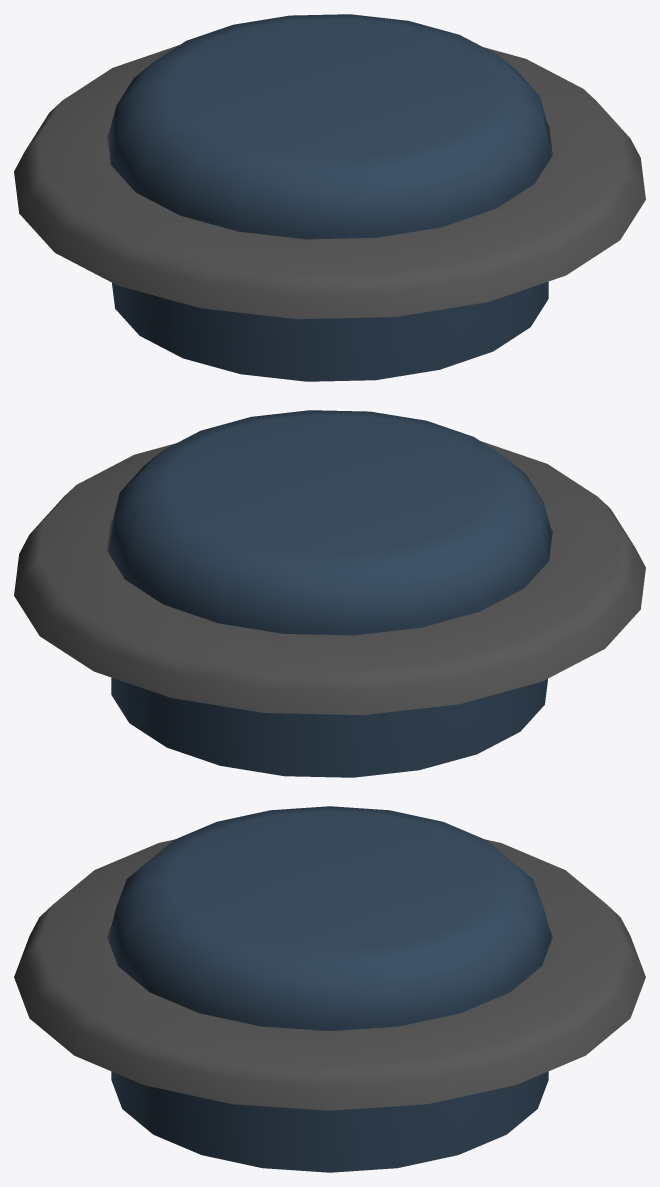
File: button8_pressed.glb
The picture shows the model from 3 angles, top to bottom: view 1: azimuth 30°, elevation 25°; view 2: azimuth 150°, elevation 25°; view 3: azimuth 270°, elevation 25°; orthographic projection.
Visible parts, largest first — view 1: SM_SimpleButton_B.001, SM_SimpleButton_Base_B.001; view 2: SM_SimpleButton_B.001, SM_SimpleButton_Base_B.001; view 3: SM_SimpleButton_B.001, SM_SimpleButton_Base_B.001.
Boxes of the visible parts, left/top/right/bottom form: SM_SimpleButton_B.001: left=109, top=14, right=550, bottom=381; SM_SimpleButton_Base_B.001: left=14, top=45, right=645, bottom=319; SM_SimpleButton_B.001: left=109, top=410, right=550, bottom=777; SM_SimpleButton_Base_B.001: left=14, top=441, right=645, bottom=715; SM_SimpleButton_B.001: left=109, top=806, right=550, bottom=1172; SM_SimpleButton_Base_B.001: left=14, top=839, right=645, bottom=1110.
Bounding box in the file's own units: 24.07 × 8.4 × 24.07.
